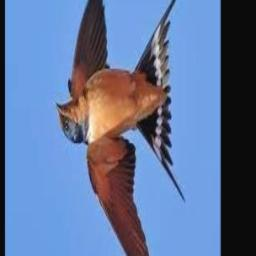Swallow: (52, 0, 185, 256)
